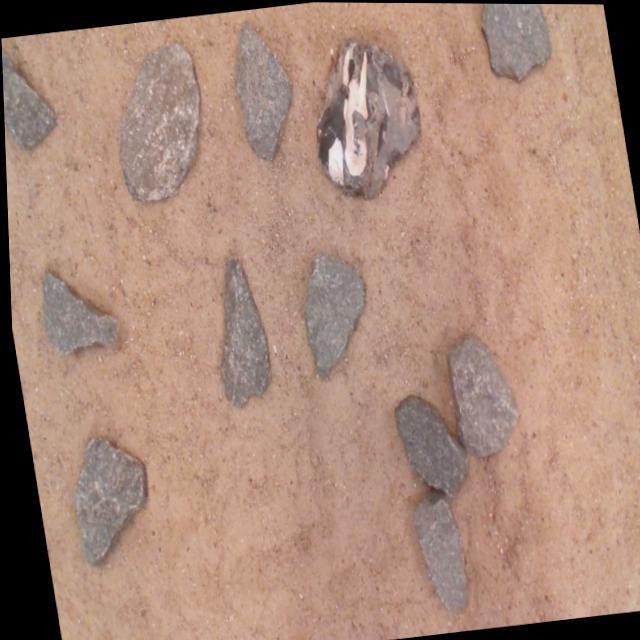rock: (315, 38, 418, 195), (117, 42, 197, 199), (71, 437, 141, 564), (444, 333, 514, 454), (234, 20, 290, 158), (301, 252, 361, 374), (217, 258, 267, 403), (391, 394, 463, 493), (408, 489, 461, 608), (39, 270, 115, 352), (480, 3, 550, 78), (1, 49, 54, 146)
